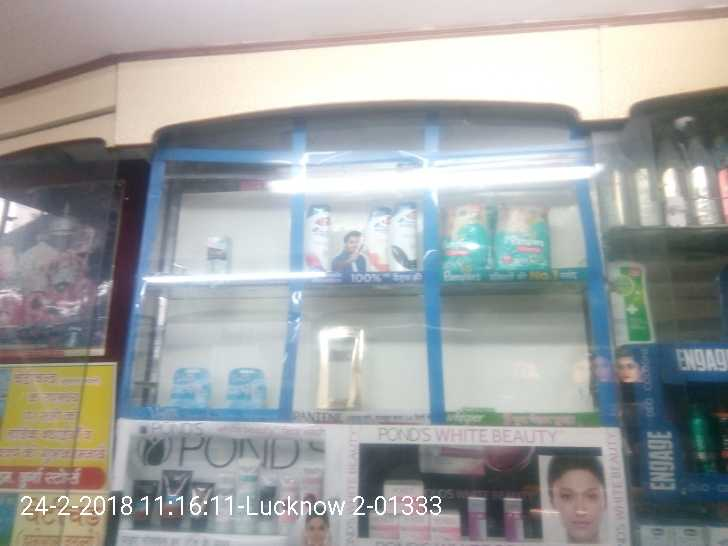venus: (171, 368, 211, 404), (226, 369, 263, 406)
